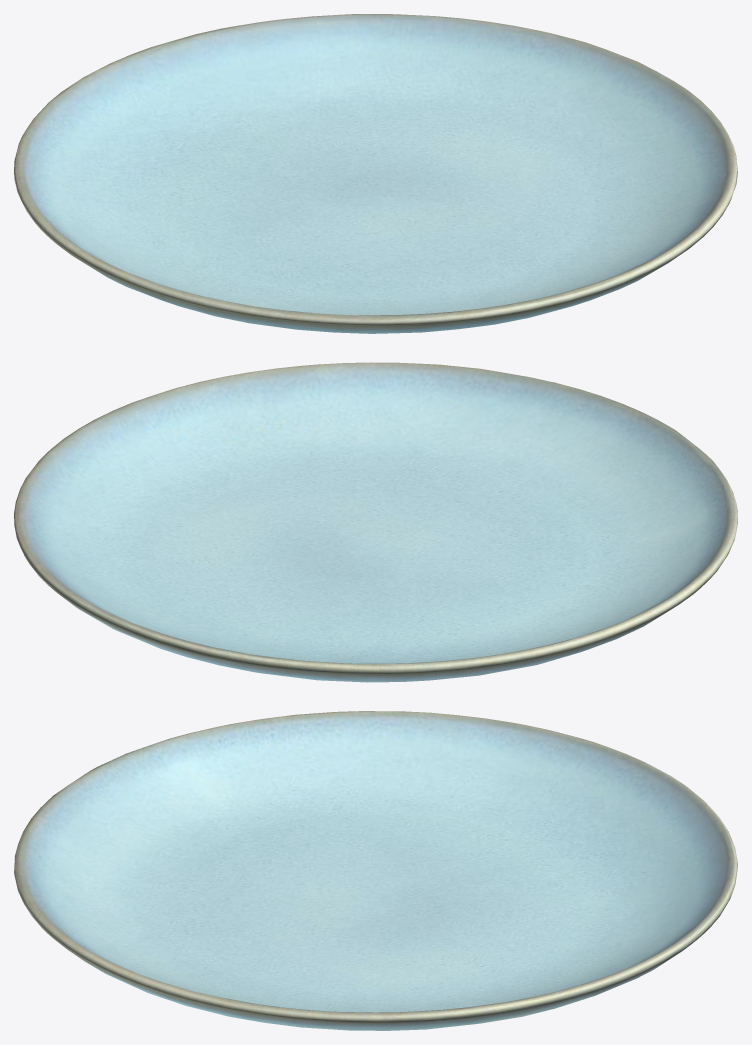
Rendered from fargklar_talerz_70600428.glb.
3 renders of one model, top to bottom at view 1: azimuth 30°, elevation 25°; view 2: azimuth 150°, elevation 25°; view 3: azimuth 270°, elevation 25°, orthographic.
Visible parts, largest first — view 1: fargklar_talerz_70600428; view 2: fargklar_talerz_70600428; view 3: fargklar_talerz_70600428.
Part boxes in pixels (x1,y1,x2,y2): fargklar_talerz_70600428: (14,14,737,333); fargklar_talerz_70600428: (14,362,737,682); fargklar_talerz_70600428: (14,711,737,1030).
Bounding box in the file's own units: 0.2586 × 0.0255 × 0.2587.
Materials: 1 (1 with a texture image).
